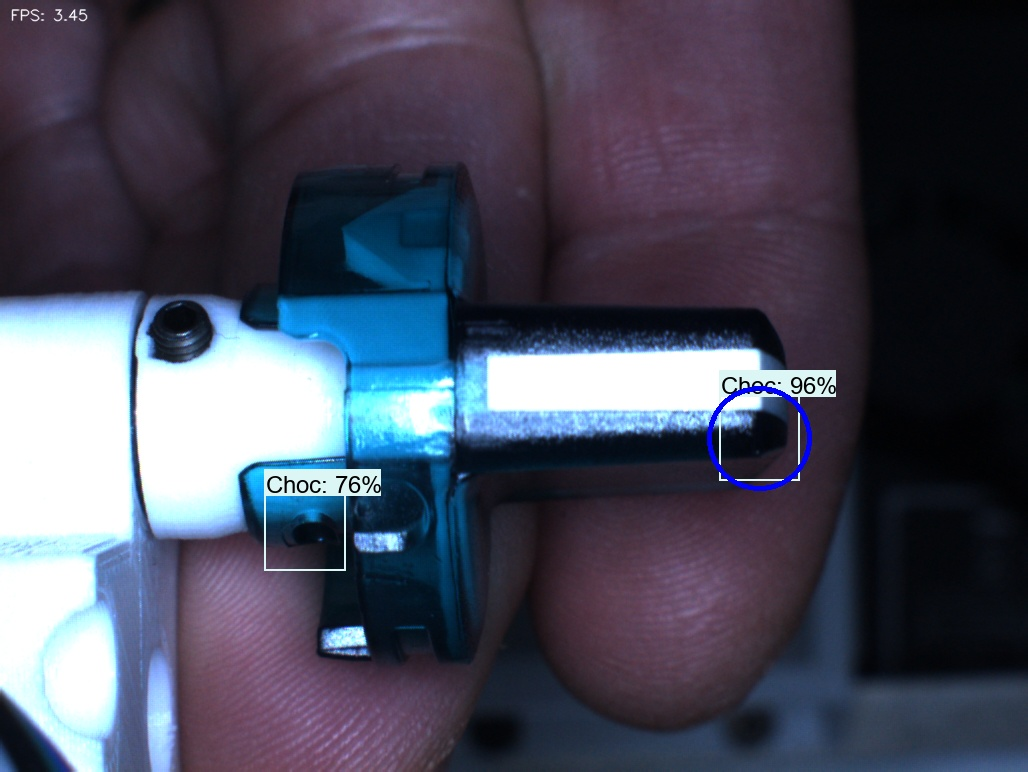DentOk: (310, 197, 390, 293)
